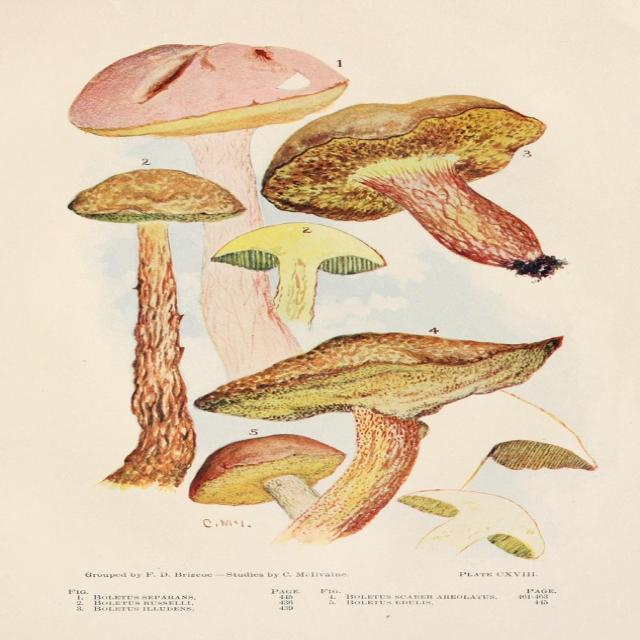Mushroom: (66, 43, 598, 561), (68, 42, 351, 381), (194, 333, 564, 547), (63, 169, 250, 489), (258, 92, 564, 280), (401, 388, 598, 488), (210, 220, 386, 325), (185, 433, 346, 520), (400, 488, 548, 559)
